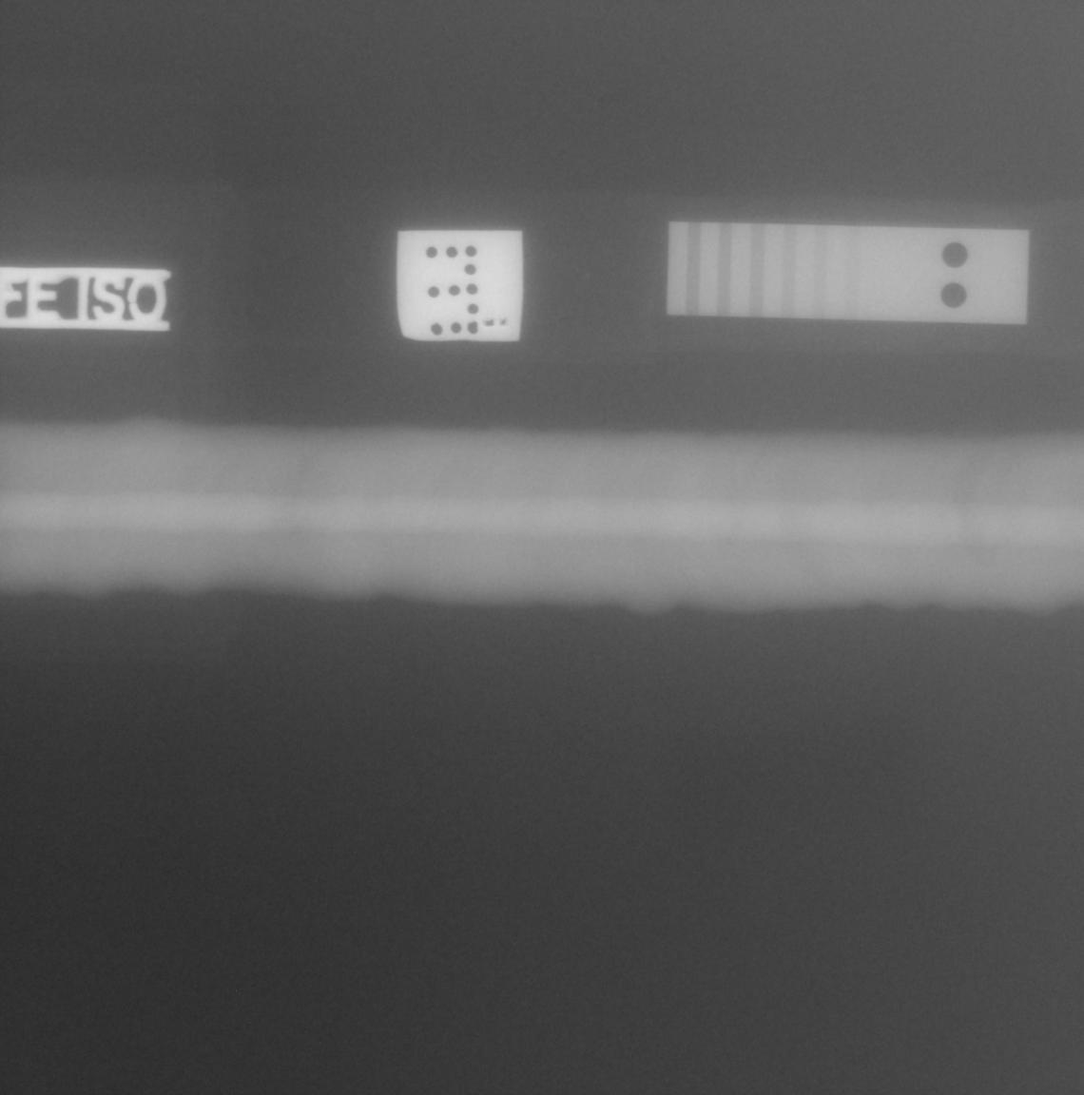Reference Standard 2: (667, 221, 1030, 324)
